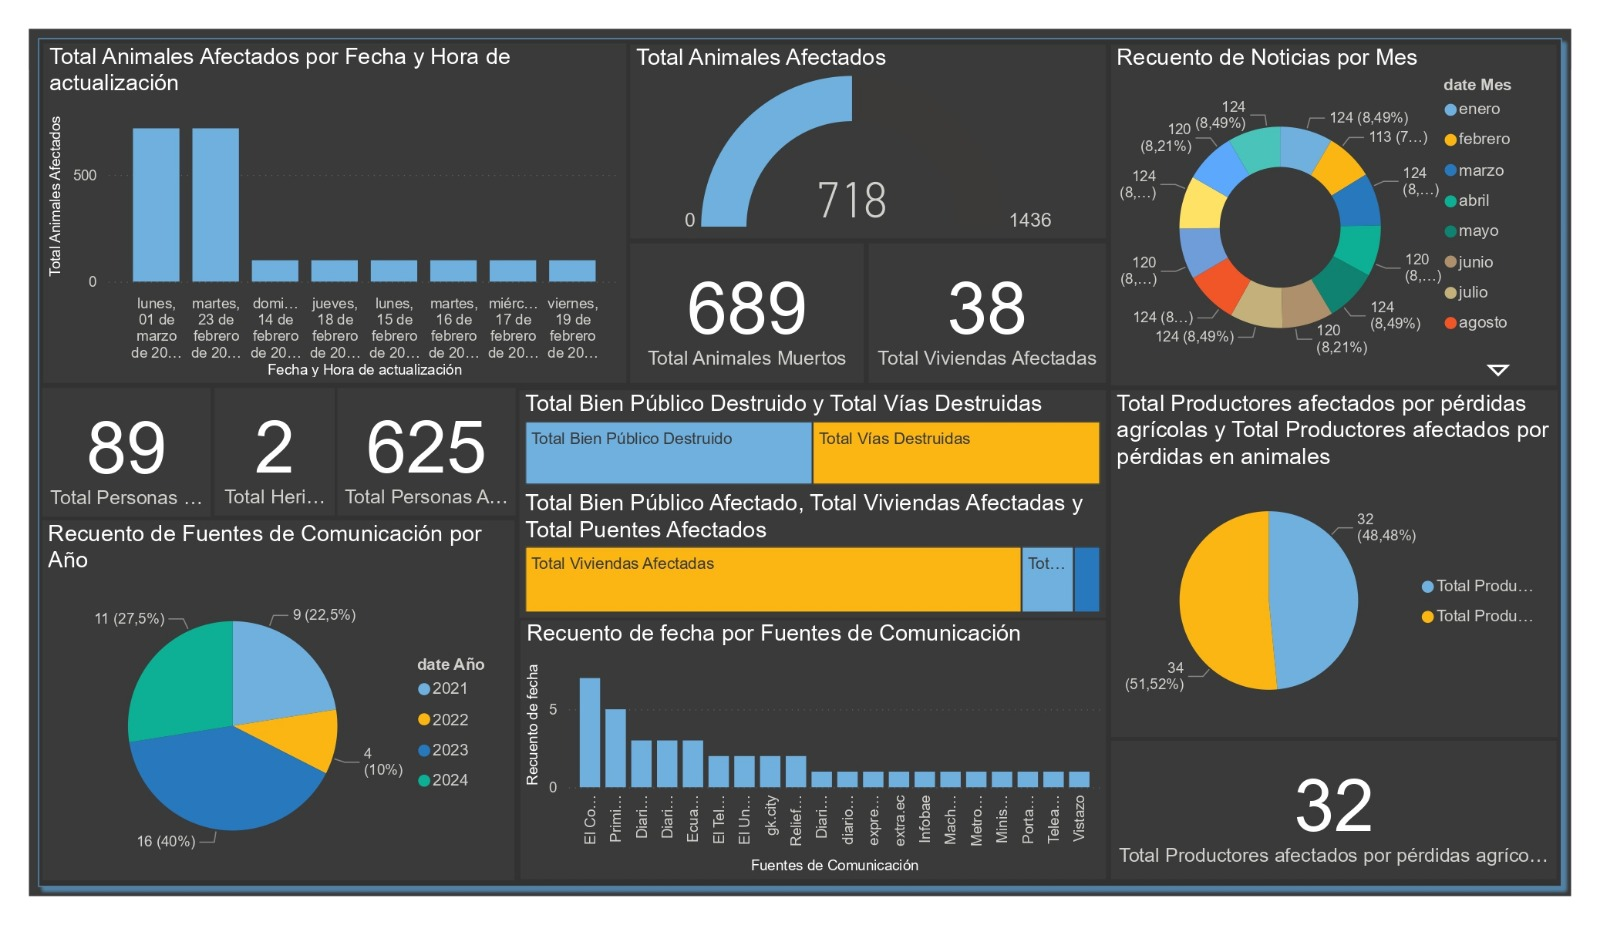

What the dashboard file says about the page in this screenshot:
{"tool":"powerbi","page":{"name":"Página 1","canvas":[1280,720],"ordinal":0},"visuals":[{"type":"shape","box":[0,0,1280,720],"z":0},{"type":"columnChart","fields":{"Y":["Sum(output_data.Animales con afectación)"],"Category":["output_data.Fecha y Hora de actualización"]},"box":[12.2,12.2,483.3,282.2],"z":1000},{"type":"gauge","fields":{"Y":["Sum(fila_filtrada (1).Animales con afectación)"]},"box":[498.9,13.3,395.6,161.1],"z":2000},{"type":"card","fields":{"Values":["Sum(output_data.Personas damnificadas)"]},"box":[11.2,297.5,140,107.5],"z":3000},{"type":"card","fields":{"Values":["Sum(fila_filtrada (1).Productores afectados por pérdidas agrícolas)"]},"box":[897.5,591.2,370,115],"z":4000},{"type":"card","fields":{"Values":["Sum(fila_filtrada (1).Animales muertos)"]},"box":[498.9,177.8,194.4,116.7],"z":5000},{"type":"pieChart","fields":{"Category":["chunchi-news.date.Variación.Jerarquía de fechas.Año"],"Y":["CountNonNull(chunchi-news.source)"]},"box":[11.1,407.8,392.2,298.9],"z":6000},{"type":"donutChart","fields":{"Category":["chunchi-news.date.Variación.Jerarquía de fechas.Mes"],"Y":["CountNonNull(chunchi-news.date.Variación.Jerarquía de fechas.Día)"]},"box":[897.8,13.3,370,282.2],"z":7000},{"type":"treemap","fields":{"Values":["Sum(fila_filtrada (1).Bien público destruido)","Sum(fila_filtrada (1).Vías destruidas)"]},"box":[407.1,300,487.1,82.9],"z":8000},{"type":"card","fields":{"Values":["Sum(fila_filtrada (1).Heridos)"]},"box":[153.8,297.5,100,106.2],"z":9000},{"type":"card","fields":{"Values":["Sum(fila_filtrada (1).Personas afectadas)"]},"box":[256.2,297.5,147.5,106.2],"z":10000},{"type":"card","fields":{"Values":["Sum(fila_filtrada (1).Viviendas afectadas)"]},"box":[696.7,177.8,197.8,116.7],"z":11000},{"type":"treemap","fields":{"Values":["Sum(fila_filtrada (1).Bien público afectado)","Sum(fila_filtrada (1).Viviendas afectadas)","Sum(fila_filtrada (1).Puentes afectados)"]},"box":[407.1,382.9,487.1,105.7],"z":12000},{"type":"pieChart","fields":{"Y":["Sum(fila_filtrada (1).Productores afectados por pérdidas agrícolas)","Sum(fila_filtrada (1).Productores afectados por pérdidas en animales)"]},"box":[897.5,300,371.2,287.5],"z":13000},{"type":"columnChart","fields":{"Category":["chunchi-news.Fuentes de Comunicación"],"Y":["CountNonNull(chunchi-news.date)"]},"box":[407.5,491.2,486.2,215],"z":14000}]}

Visuals, with their boxes in screenshot pixels (x1, y1, x2, y2), scaled from the page's 1280x720 canvas onto the 1600x925 screenshot:
shape: Rect(0, 0, 1599, 924)
columnChart - Sum(output_data.Animales con afectación) x output_data.Fecha y Hora de actualización: Rect(15, 16, 619, 378)
gauge - Sum(fila_filtrada (1).Animales con afectación): Rect(624, 17, 1118, 224)
card - Sum(output_data.Personas damnificadas): Rect(14, 382, 189, 520)
card - Sum(fila_filtrada (1).Productores afectados por pérdidas agrícolas): Rect(1122, 760, 1584, 907)
card - Sum(fila_filtrada (1).Animales muertos): Rect(624, 228, 867, 378)
pieChart - chunchi-news.date.Variación.Jerarquía de fechas.Año x CountNonNull(chunchi-news.source): Rect(14, 524, 504, 908)
donutChart - chunchi-news.date.Variación.Jerarquía de fechas.Mes x CountNonNull(chunchi-news.date.Variación.Jerarquía de fechas.Día): Rect(1122, 17, 1585, 380)
treemap - Sum(fila_filtrada (1).Bien público destruido) x Sum(fila_filtrada (1).Vías destruidas): Rect(509, 385, 1118, 492)
card - Sum(fila_filtrada (1).Heridos): Rect(192, 382, 317, 519)
card - Sum(fila_filtrada (1).Personas afectadas): Rect(320, 382, 505, 519)
card - Sum(fila_filtrada (1).Viviendas afectadas): Rect(871, 228, 1118, 378)
treemap - Sum(fila_filtrada (1).Bien público afectado) x Sum(fila_filtrada (1).Viviendas afectadas): Rect(509, 492, 1118, 628)
pieChart - Sum(fila_filtrada (1).Productores afectados por pérdidas agrícolas) x Sum(fila_filtrada (1).Productores afectados por pérdidas en animales): Rect(1122, 385, 1586, 755)
columnChart - chunchi-news.Fuentes de Comunicación x CountNonNull(chunchi-news.date): Rect(509, 631, 1117, 907)
